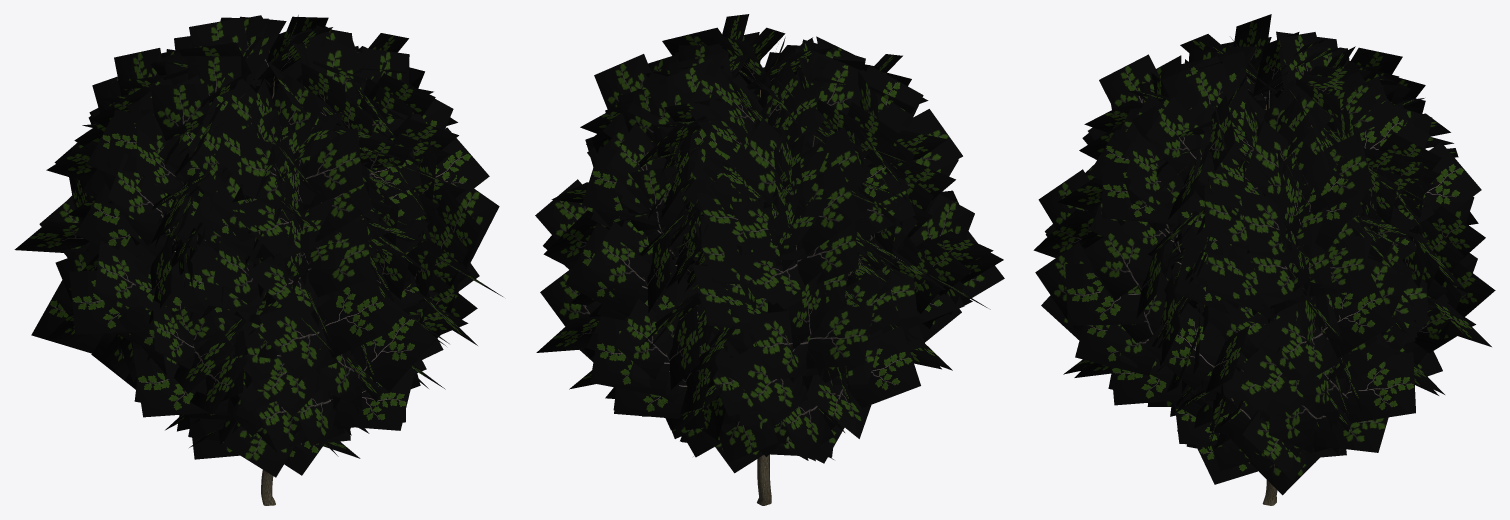
The model's file is tree.gltf.
3 renders of one model, left to right at view 1: azimuth 30°, elevation 25°; view 2: azimuth 150°, elevation 25°; view 3: azimuth 270°, elevation 25°, orthographic. The views are drawn at different scales.
Visible parts, largest first — view 1: Maple_14; view 2: Maple_14; view 3: Maple_14.
Boxes of the visible parts, x1,y1,x2,y2 form: Maple_14: (14,15,502,505); Maple_14: (535,14,1004,505); Maple_14: (1033,14,1495,505).
Bounding box in the file's own units: 38.2 × 40.03 × 37.16.
2 materials, 2 textured.
